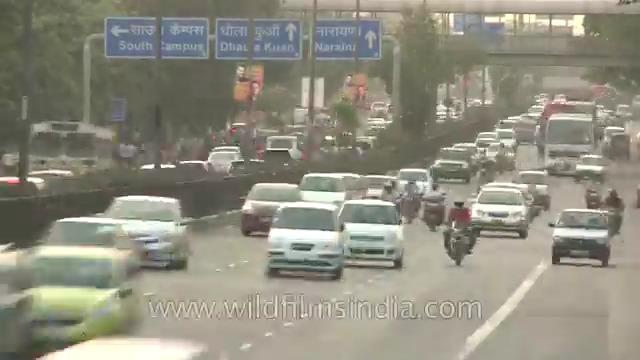Bike: (445, 200, 477, 265), (425, 181, 446, 231), (606, 188, 626, 239), (401, 175, 419, 221), (379, 179, 402, 207), (585, 171, 602, 207), (494, 142, 512, 175), (475, 160, 493, 189)
Car: (28, 211, 136, 300), (105, 185, 197, 279), (265, 201, 343, 288), (336, 195, 411, 278), (548, 206, 614, 273), (239, 179, 305, 243), (468, 184, 529, 244), (297, 169, 352, 205)
